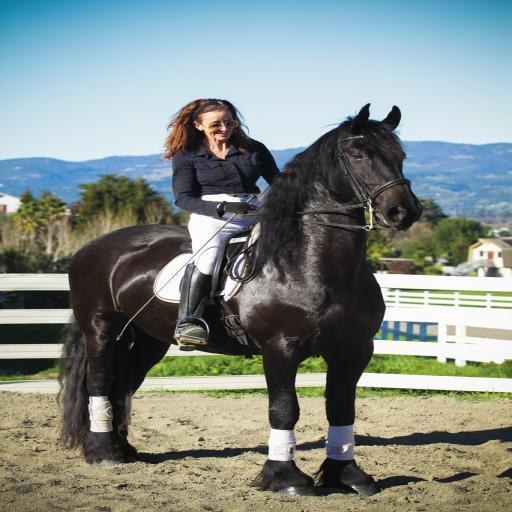horse: (52, 99, 422, 497)
